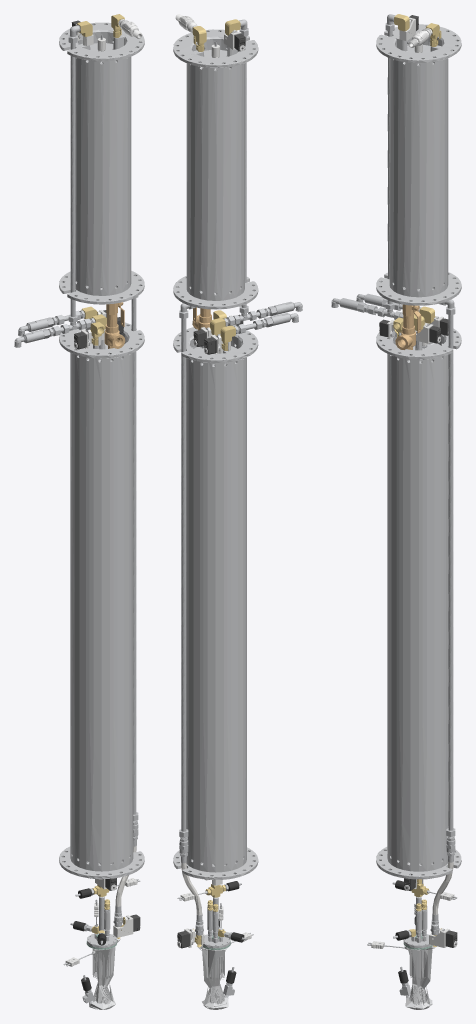
The model's file is rocket_assembly.glb.
3 renders of one model, left to right at view 1: azimuth 30°, elevation 25°; view 2: azimuth 210°, elevation 25°; view 3: azimuth 330°, elevation 25°, orthographic.
Parts seen in each view (by area): view 1: Aluminum_-_Satin, Steel_-_Satin, Stainless_Steel_-_Satin_1, Brass_-_Polished, ABS_(White), Bronze_-_Polished, Opaque(25,25,25), Paint_-_Enamel_Glossy_(Black); view 2: Aluminum_-_Satin, Steel_-_Satin, Brass_-_Polished, Stainless_Steel_-_Satin_1, ABS_(White), Opaque(25,25,25), Paint_-_Enamel_Glossy_(Black), Bronze_-_Polished; view 3: Aluminum_-_Satin, Steel_-_Satin, Stainless_Steel_-_Satin_1, Brass_-_Polished, ABS_(White), Opaque(25,25,25), Bronze_-_Polished, Paint_-_Enamel_Glossy_(Black).
Part boxes in pixels (left/top/right/bottom): Aluminum_-_Satin: left=59, top=22, right=144, bottom=947; Steel_-_Satin: left=14, top=25, right=140, bottom=1004; Stainless_Steel_-_Satin_1: left=89, top=938, right=120, bottom=1009; Brass_-_Polished: left=77, top=14, right=125, bottom=938; ABS_(White): left=65, top=24, right=137, bottom=966; Bronze_-_Polished: left=104, top=302, right=125, bottom=348; Opaque(25,25,25): left=71, top=20, right=140, bottom=931; Paint_-_Enamel_Glossy_(Black): left=73, top=888, right=105, bottom=991; Aluminum_-_Satin: left=173, top=29, right=258, bottom=948; Steel_-_Satin: left=177, top=19, right=302, bottom=997; Brass_-_Polished: left=192, top=19, right=240, bottom=947; Stainless_Steel_-_Satin_1: left=197, top=945, right=228, bottom=1009; ABS_(White): left=180, top=30, right=251, bottom=947; Opaque(25,25,25): left=177, top=33, right=245, bottom=948; Paint_-_Enamel_Glossy_(Black): left=218, top=881, right=244, bottom=983; Bronze_-_Polished: left=192, top=307, right=211, bottom=330; Aluminum_-_Satin: left=376, top=24, right=461, bottom=948; Steel_-_Satin: left=331, top=14, right=457, bottom=997; Stainless_Steel_-_Satin_1: left=405, top=945, right=435, bottom=1009; Brass_-_Polished: left=393, top=14, right=441, bottom=946; ABS_(White): left=371, top=17, right=454, bottom=948; Opaque(25,25,25): left=379, top=15, right=457, bottom=947; Bronze_-_Polished: left=395, top=304, right=421, bottom=349; Paint_-_Enamel_Glossy_(Black): left=395, top=880, right=415, bottom=983.
Bounding box in the file's own units: 43.5 × 329 × 26.72.
